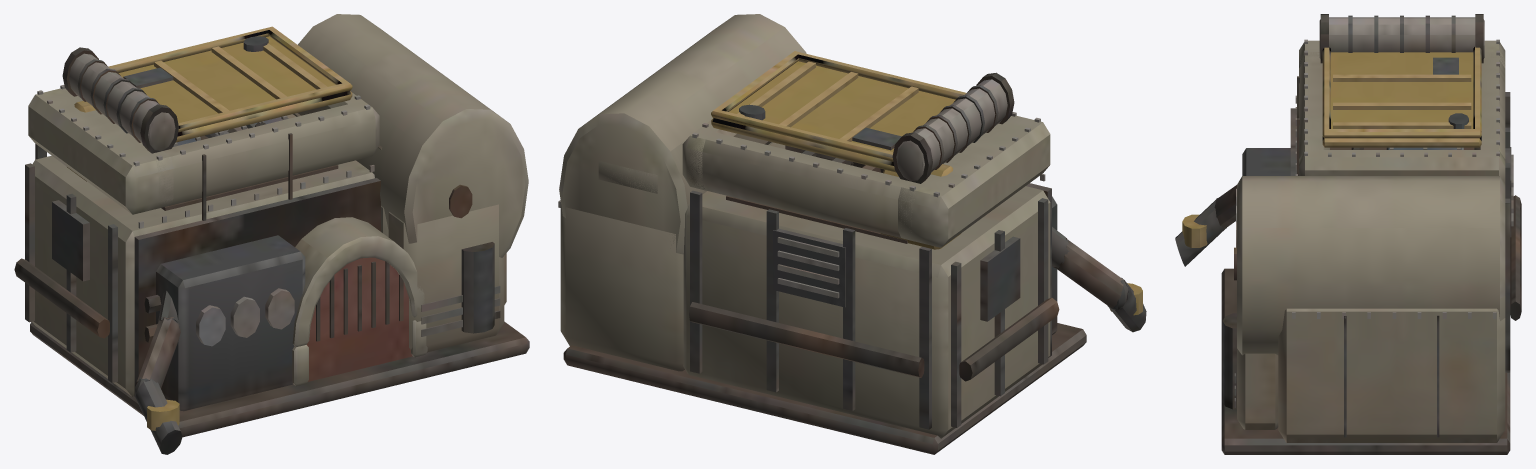
The model's file is cargo-bay.glb.
The picture shows the model from 3 angles, left to right: view 1: azimuth 30°, elevation 25°; view 2: azimuth 150°, elevation 25°; view 3: azimuth 270°, elevation 25°; orthographic projection. The views are drawn at different scales.
Visible parts, largest first — view 1: body, anim_hatch_bay; view 2: body, anim_hatch_bay; view 3: body, anim_hatch_bay.
Part boxes in pixels (<box>): body: <box>14,14,529,454</box>; anim_hatch_bay: <box>62,26,352,153</box>; body: <box>558,14,1146,454</box>; anim_hatch_bay: <box>711,51,1014,183</box>; body: <box>1175,39,1521,454</box>; anim_hatch_bay: <box>1319,14,1484,147</box>.
Size of the model in its own units: 3.13 by 2.12 by 2.33.
Materials: 1 (1 with a texture image).
